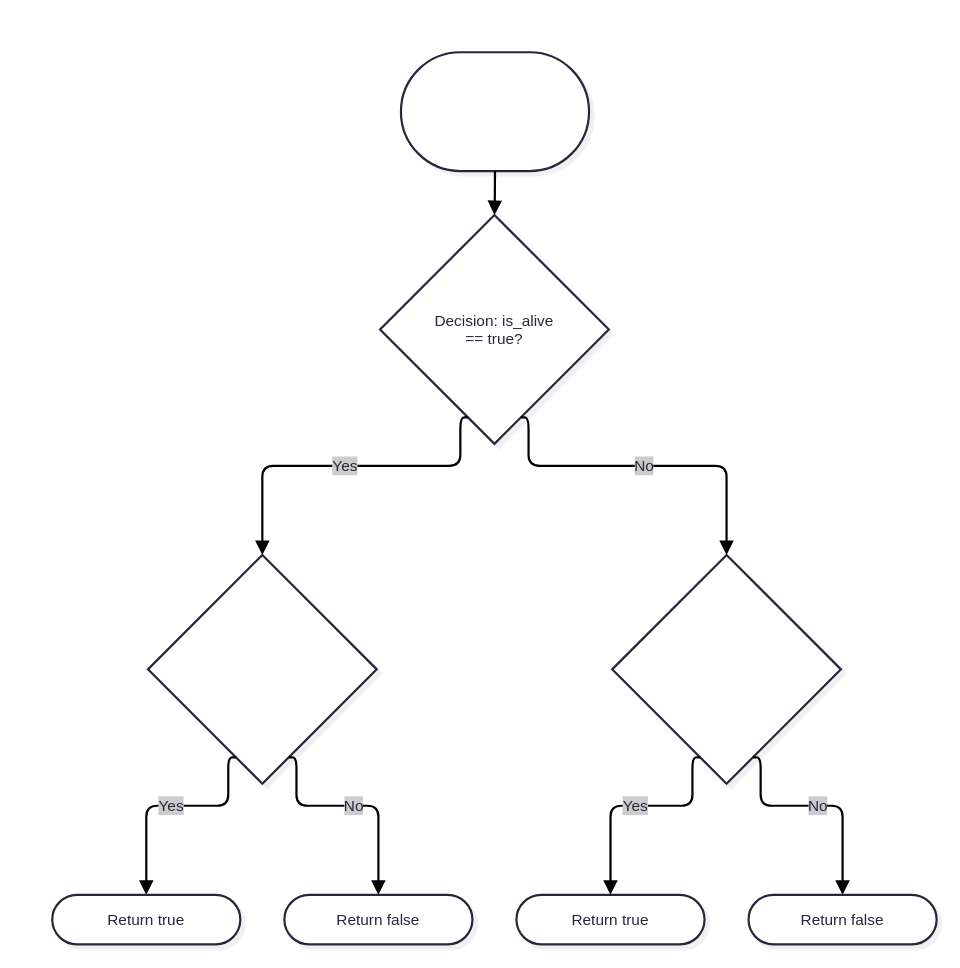
The diagram is 960 pixels wide and 968 high, and some of its shapes have lost their labels. The centre of each missing label's shape, as x and y in pixels:
"Decision: neighbors == 2 OR neighbors == 3?" belongs at [264,671].
"Decision: neighbors == 3?" belongs at [728,671].
"Start: next_state is_alive, neighbors" belongs at [496,113].
